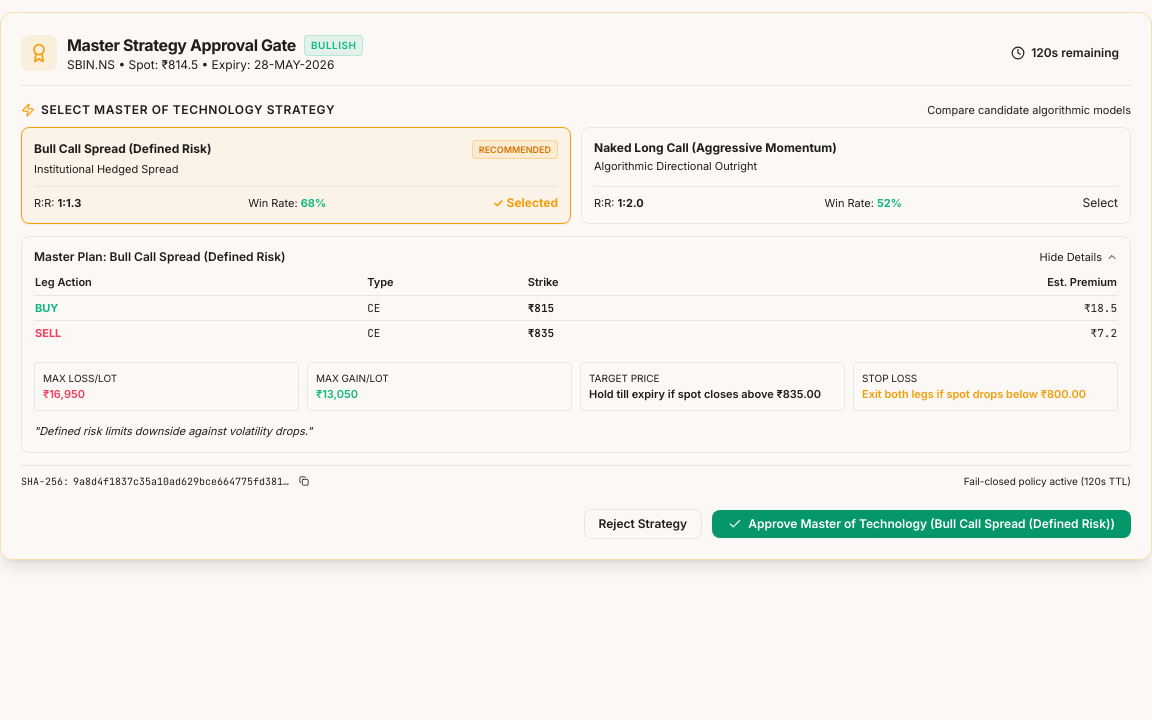
Test: FinanceStrategyApprovalCard Component › submits approval with chosen master candidate strategy name
The image size is (1152, 720).
Click the button "Approve Master of Technology".
click(922, 524)  # box [712,510,1131,538]
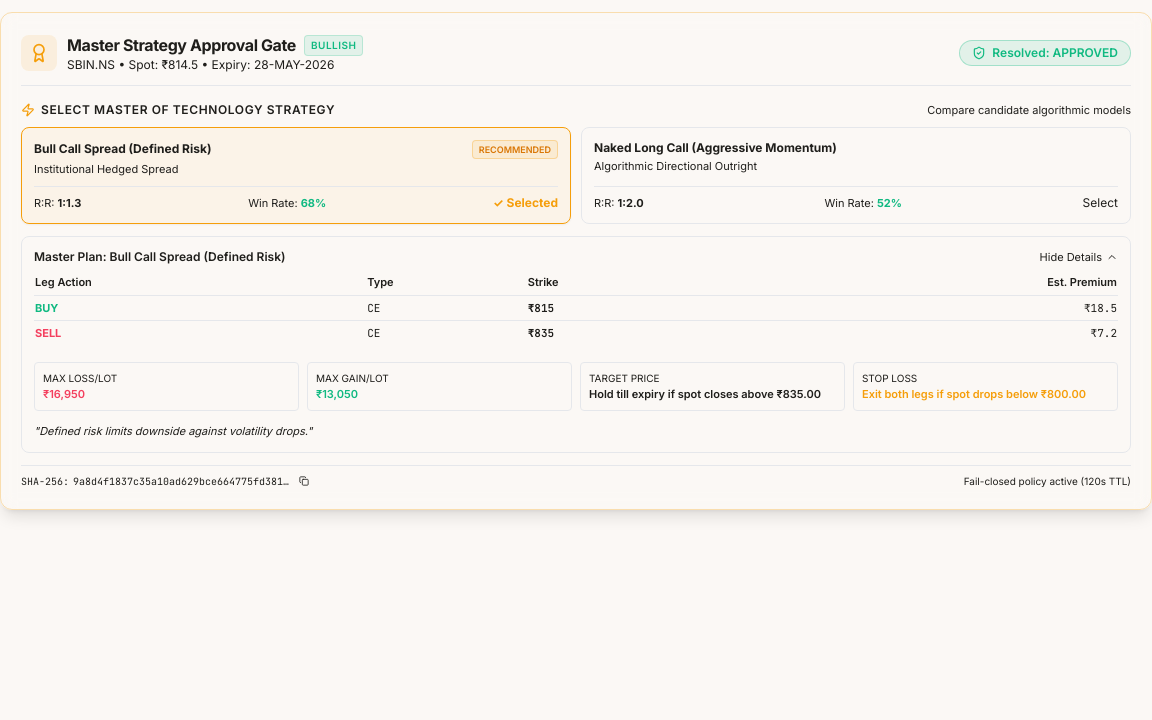
Expected: the text "Resolved: APPROVED" is shown, [992,45,1118,61]
